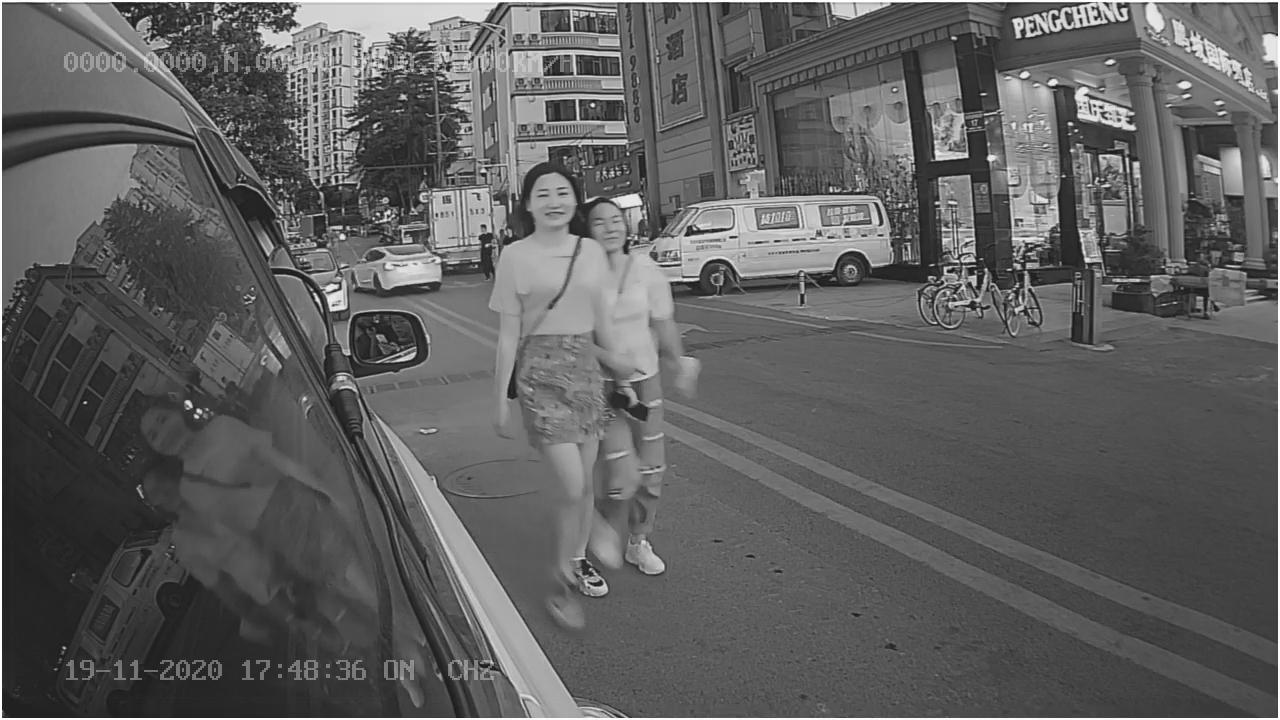person: (488, 165, 617, 553)
